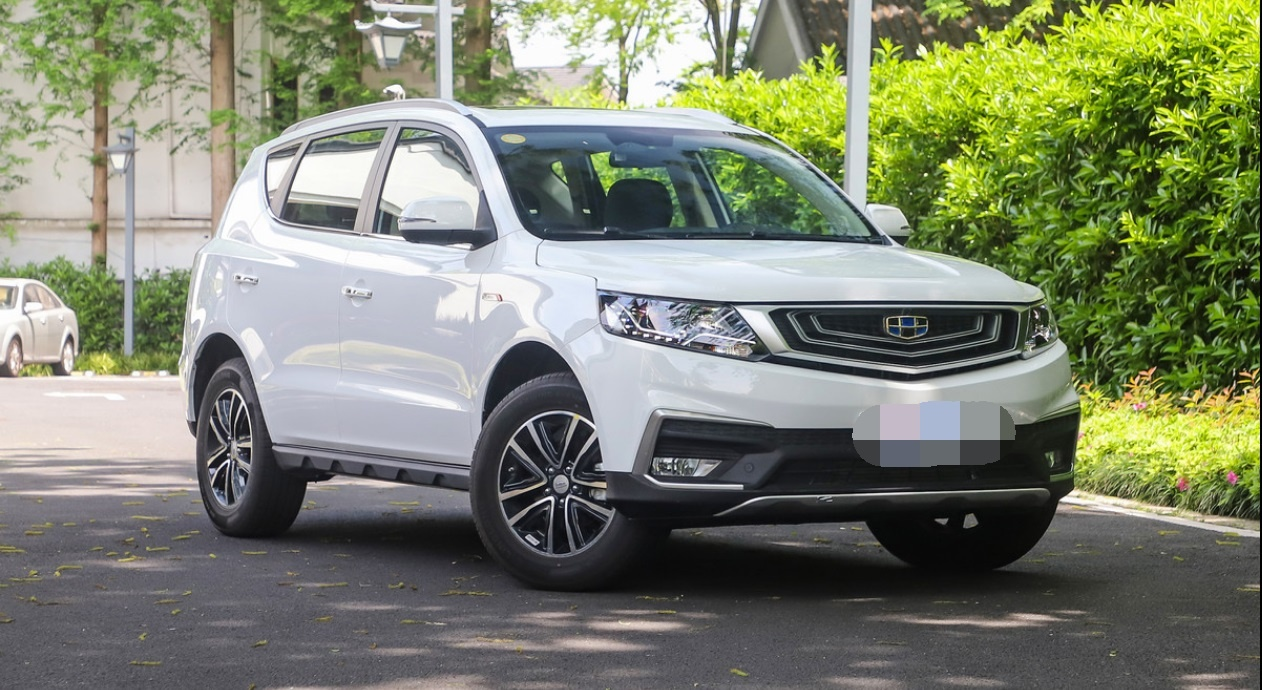SUV: (183, 88, 1062, 581)
